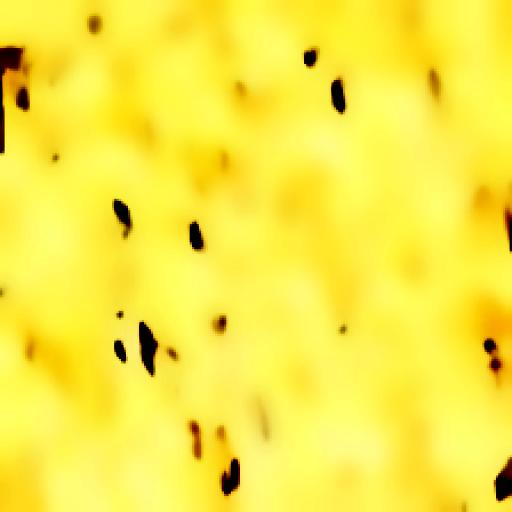egg: (107, 192, 147, 236), (136, 315, 161, 382), (327, 79, 359, 125), (102, 340, 132, 382), (487, 452, 512, 500), (221, 458, 244, 504), (187, 221, 210, 258), (296, 51, 324, 71), (480, 340, 498, 366)
